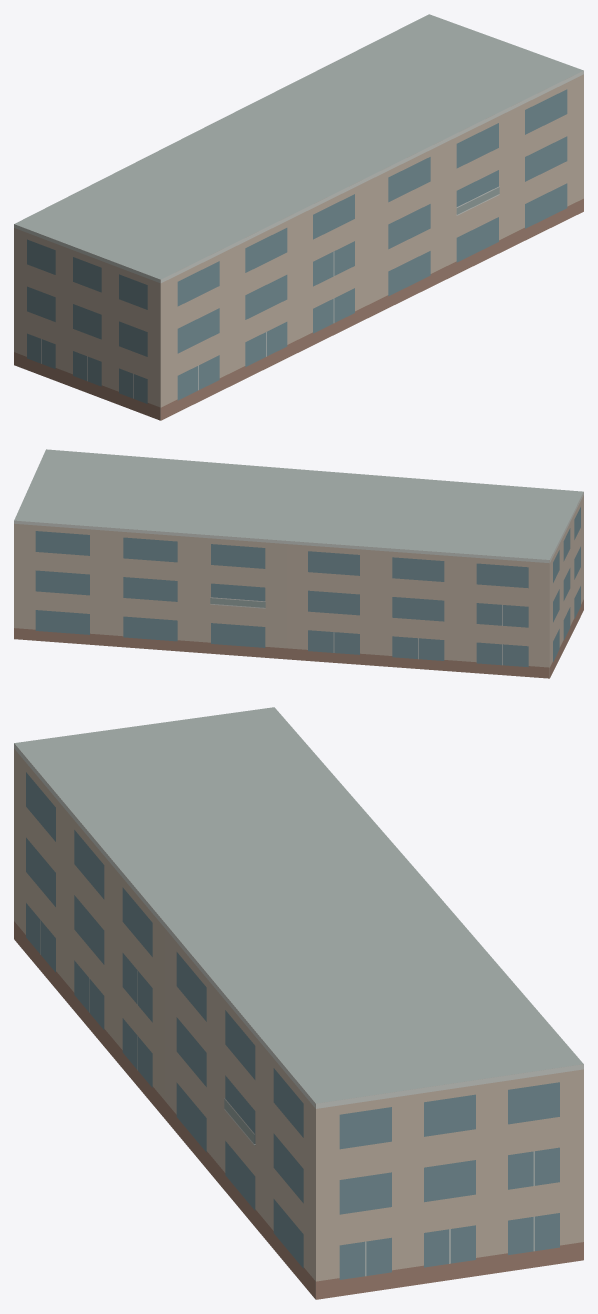
Rendered from survey-upis-32473981.glb.
3 renders of one model, top to bottom at view 1: azimuth 30°, elevation 25°; view 2: azimuth 150°, elevation 25°; view 3: azimuth 270°, elevation 25°, orthographic. The views are drawn at different scales.
Parts seen in each view (by area): view 1: survey-upis-32473981.tmp; view 2: survey-upis-32473981.tmp; view 3: survey-upis-32473981.tmp.
Boxes of the visible parts, <box> form: survey-upis-32473981.tmp: <box>14,14,583,420</box>; survey-upis-32473981.tmp: <box>14,449,583,678</box>; survey-upis-32473981.tmp: <box>14,707,583,1299</box>.
Bounding box in the file's own units: 39.7 × 9.15 × 24.11.
